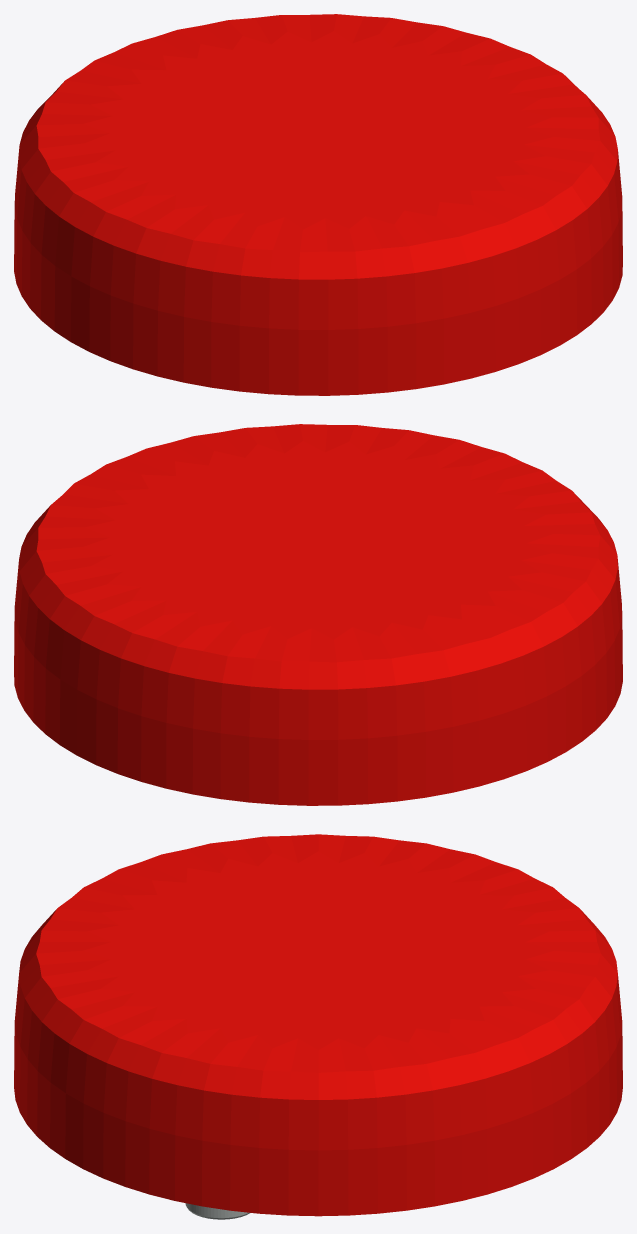
Rendered from Button.fbx.
3 views of the same model, one above another, from view 1: azimuth 30°, elevation 25°; view 2: azimuth 150°, elevation 25°; view 3: azimuth 270°, elevation 25° (orthographic).
Visible parts, largest first — view 1: Cylinder.001; view 2: Cylinder.001; view 3: Cylinder.001, Cylinder.
Boxes of the visible parts, left/top/right/bottom form: Cylinder.001: left=14, top=14, right=622, bottom=395; Cylinder.001: left=14, top=424, right=622, bottom=805; Cylinder.001: left=14, top=834, right=622, bottom=1216; Cylinder: left=185, top=1203, right=249, bottom=1219.
Size of the model in its own units: 168 by 66.2 by 168.
